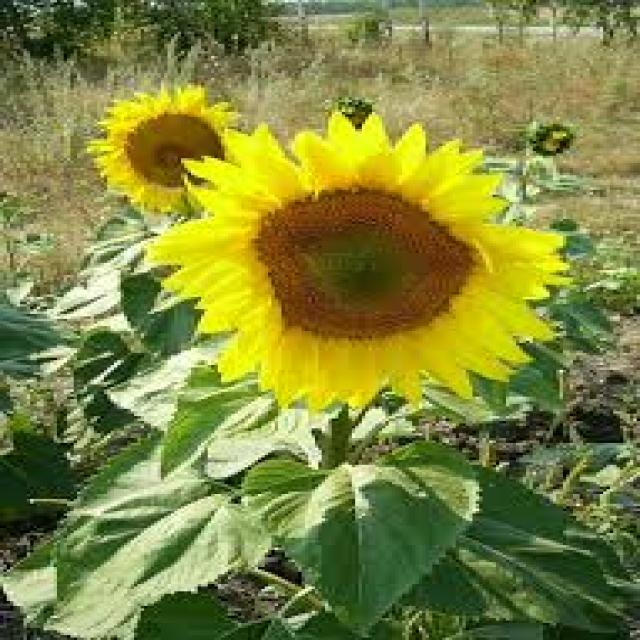sunflower: (121, 102, 580, 416), (80, 83, 272, 218)
